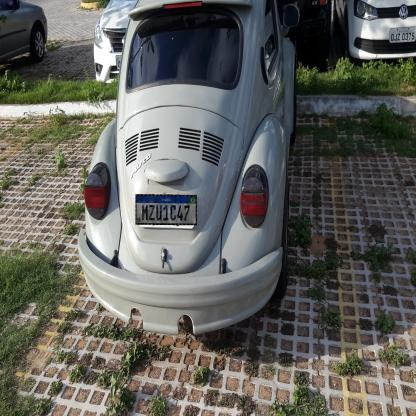PlacaM: (135, 194, 197, 225)
